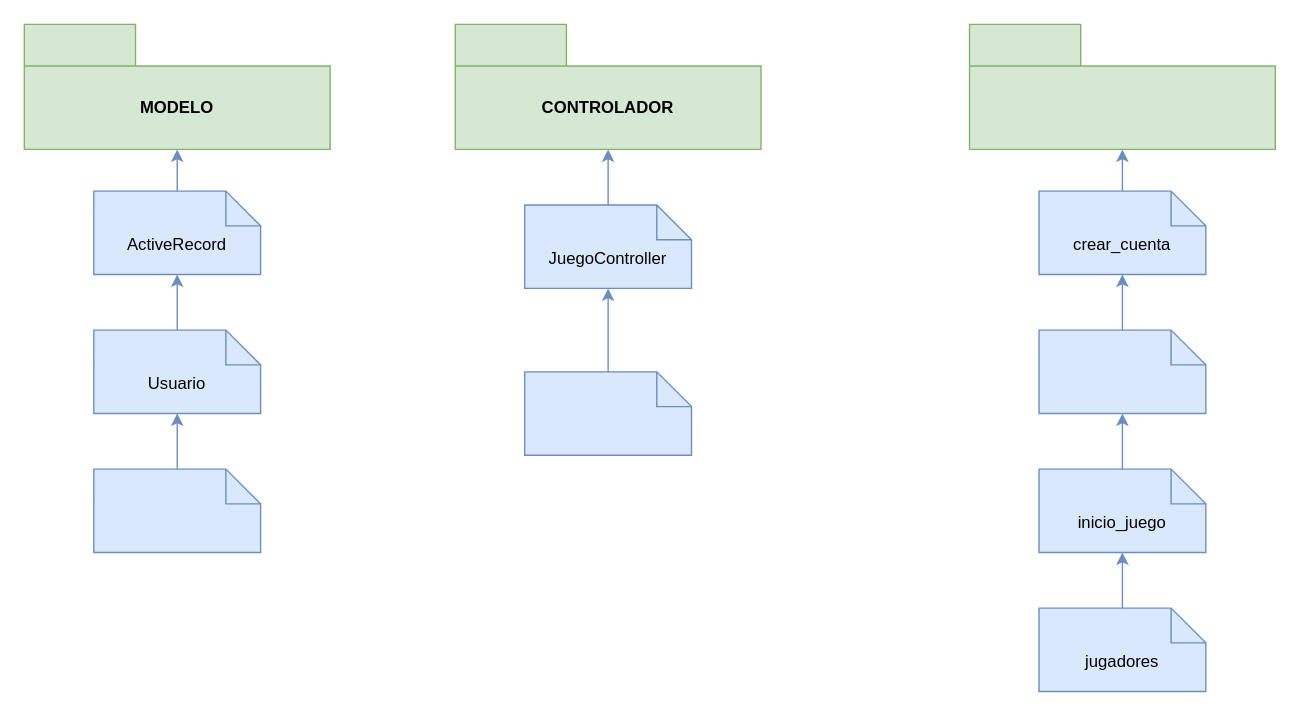
This 1300x716 diagram has some shape labels left out. The centre of each missing label's shape, as x and y in pixels:
Database connection: point (176, 510)
login: point (1122, 371)
UsuarioController: point (607, 412)
VISTA: point (1121, 86)
